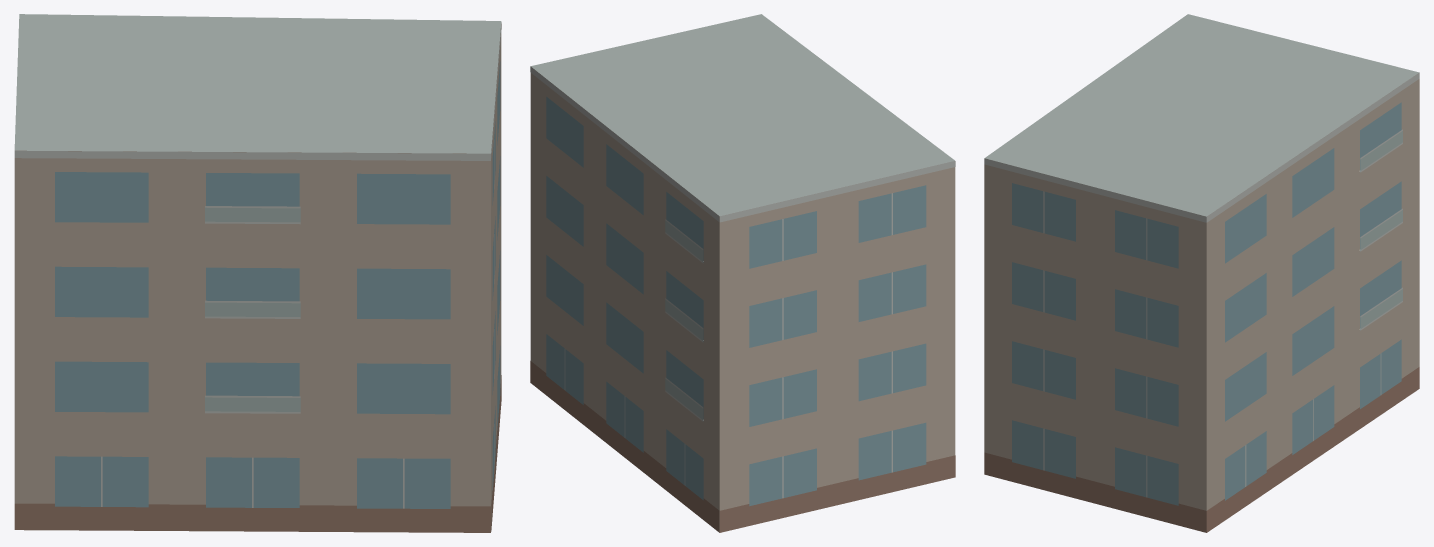
File: survey-upis-32781703.glb
3 views of the same model, side by side, from view 1: azimuth 30°, elevation 25°; view 2: azimuth 150°, elevation 25°; view 3: azimuth 270°, elevation 25° (orthographic). The views are drawn at different scales.
Parts seen in each view (by area): view 1: survey-upis-32781703.tmp; view 2: survey-upis-32781703.tmp; view 3: survey-upis-32781703.tmp.
Boxes of the visible parts, x1,y1,x2,y2 form: survey-upis-32781703.tmp: (14, 14, 501, 532); survey-upis-32781703.tmp: (530, 14, 955, 532); survey-upis-32781703.tmp: (984, 14, 1419, 532).
Bounding box in the file's own units: 17.19 × 12.5 × 15.6.
